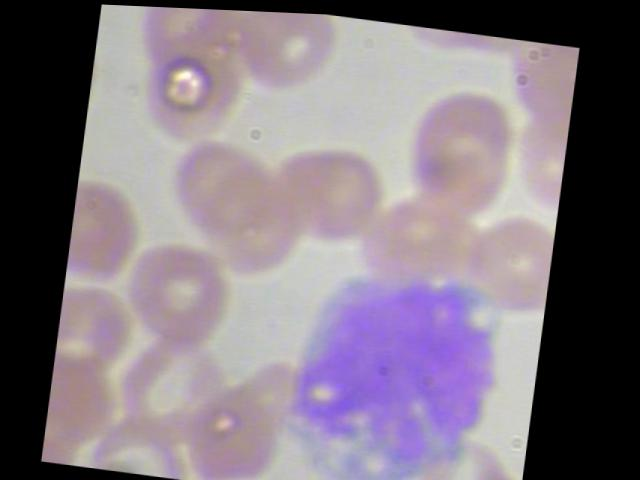Red Blood Cells: (114, 227, 238, 355), (260, 126, 383, 254), (395, 73, 518, 200), (193, 151, 316, 278), (129, 36, 249, 150), (451, 200, 558, 316), (224, 8, 345, 100), (182, 377, 290, 479), (83, 408, 199, 477)
White Blood Cells: (264, 244, 514, 479)
